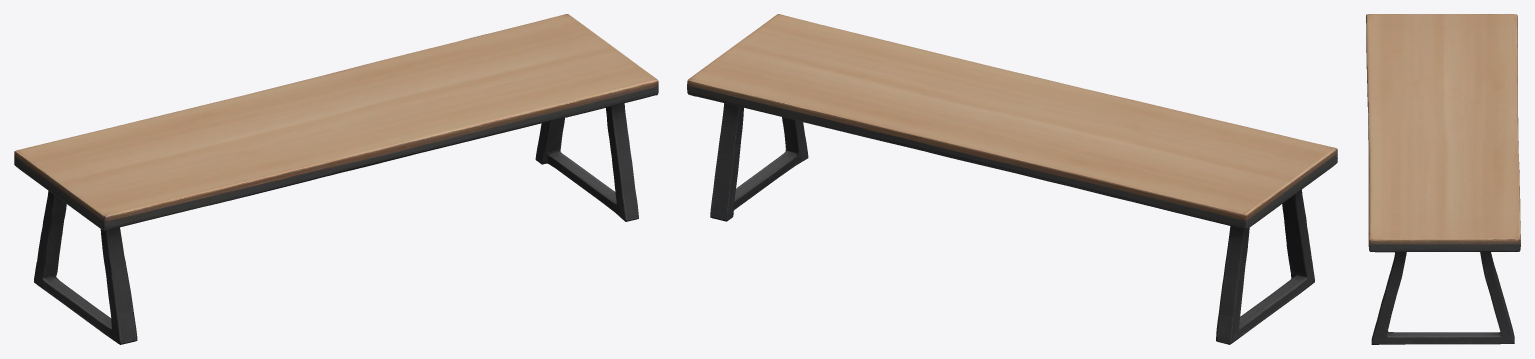
Rendered from bench_wood_4.glb.
The picture shows the model from 3 angles, left to right: view 1: azimuth 30°, elevation 25°; view 2: azimuth 150°, elevation 25°; view 3: azimuth 270°, elevation 25°; orthographic projection. The views are drawn at different scales.
Visible parts, largest first — view 1: geometry_0; view 2: geometry_0; view 3: geometry_0.
Boxes of the visible parts, <box> form: geometry_0: <box>14,14,658,344</box>; geometry_0: <box>687,14,1337,344</box>; geometry_0: <box>1366,14,1520,344</box>.
Size of the model in its own units: 1 by 0.2339 by 0.2899.
1 material, 1 textured.
